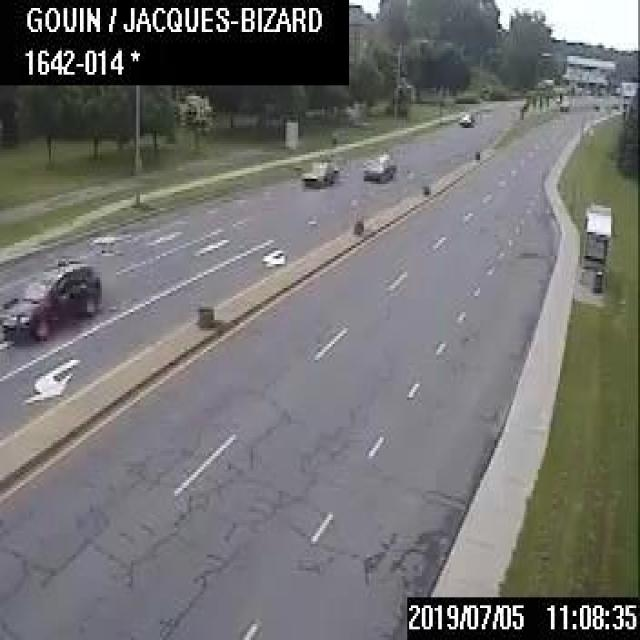vehicle: (0, 258, 100, 338), (360, 150, 395, 180), (299, 159, 337, 186), (457, 110, 472, 124)
